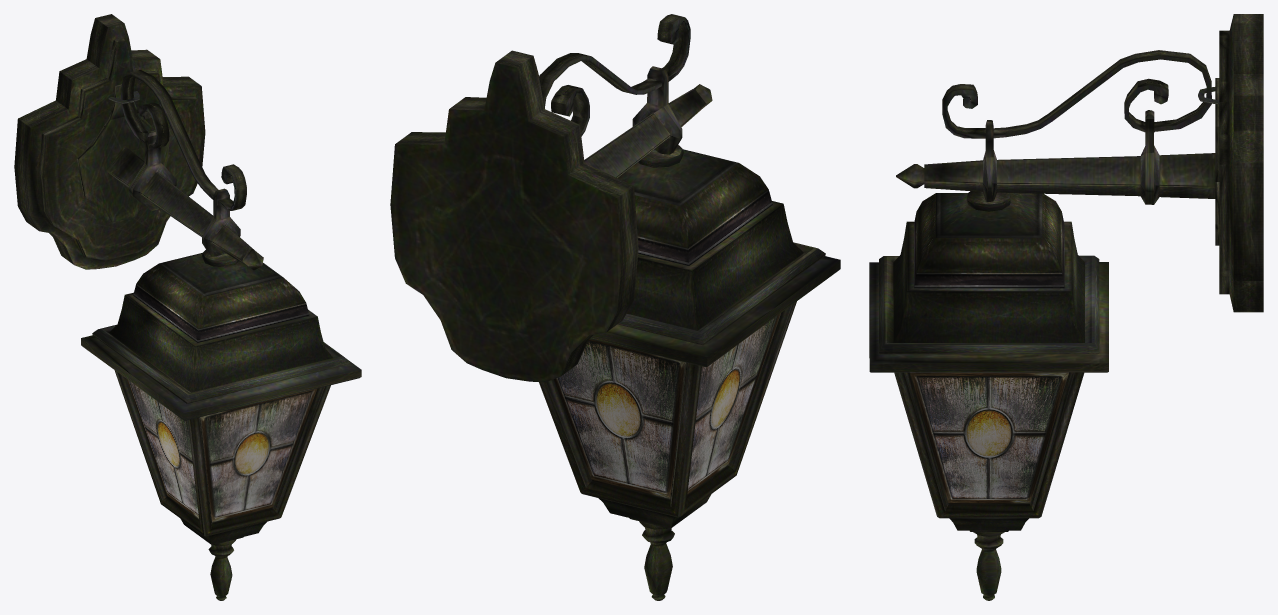
The model's file is Farola_1.obj.
The picture shows the model from 3 angles, left to right: view 1: azimuth 30°, elevation 25°; view 2: azimuth 150°, elevation 25°; view 3: azimuth 270°, elevation 25°; orthographic projection. The views are drawn at different scales.
Parts seen in each view (by area): view 1: Box02; view 2: Box02; view 3: Box02.
Boxes of the visible parts, <box> form: Box02: <box>14,14,361,600</box>; Box02: <box>390,14,840,600</box>; Box02: <box>869,14,1263,600</box>.
Size of the model in its own units: 0.172 by 0.4582 by 0.2822.
